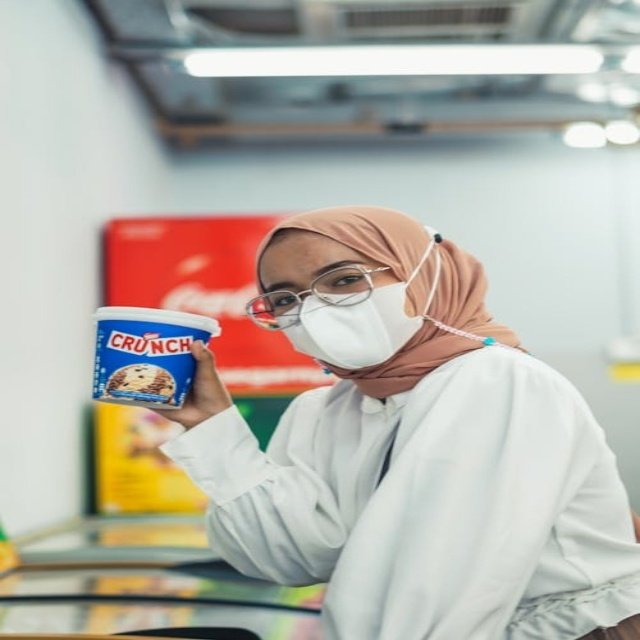Gafas: (245, 261, 395, 331)
Mascara: (277, 272, 423, 371)
Sin_guantes: (148, 338, 239, 424)
Sin_mascara: (253, 317, 281, 330)
